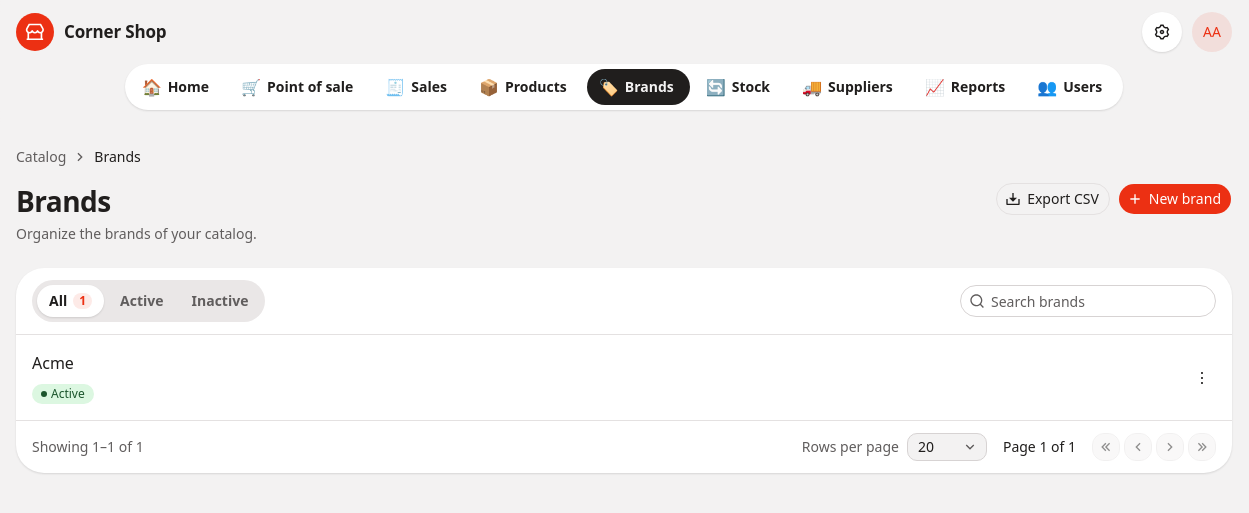
Scenario: BrandListPage (compact) › keeps the row actions on the cards
Check: the button "Acme" is shown, box [32,351,94,375]
Click the button named "Actions". click: (1202, 378)
box: [1188,364,1216,392]
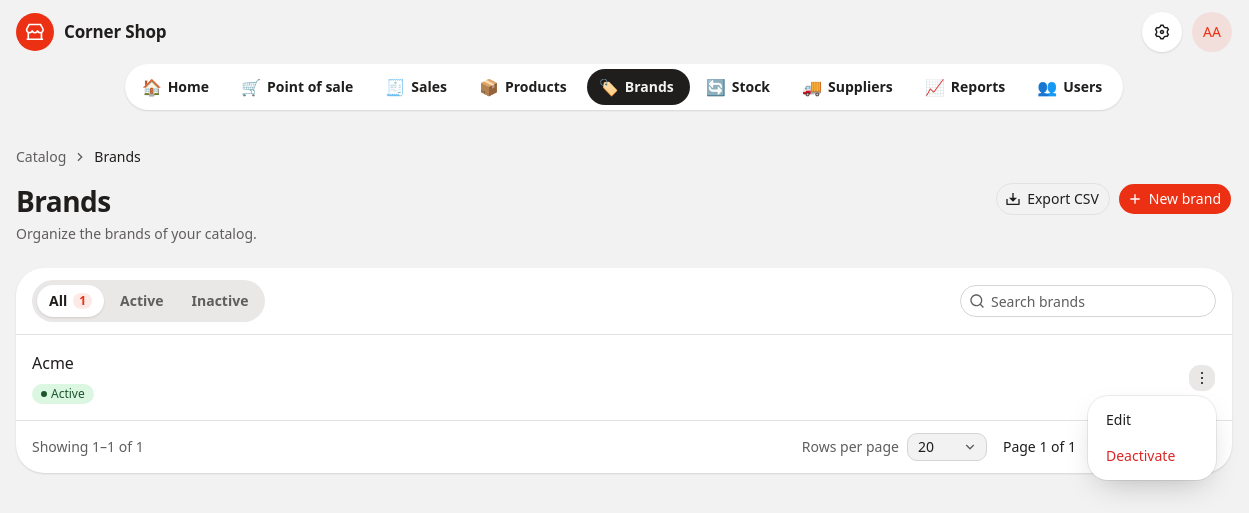
Check: the menu item "Deactivate" is shown, box [1106,446,1175,465]
